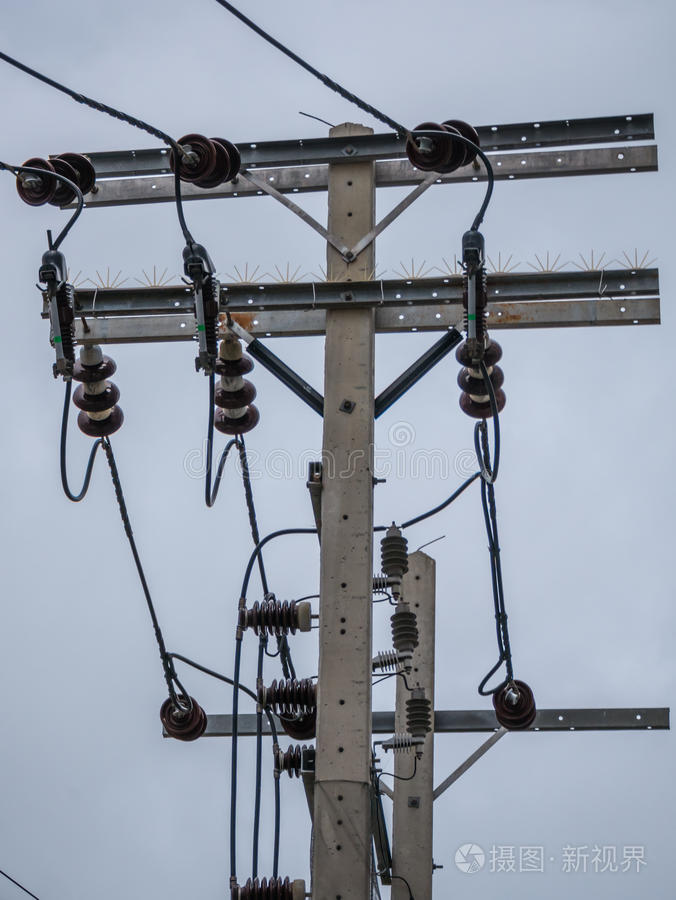insulator: (63, 358, 129, 436), (14, 149, 100, 208), (204, 355, 264, 435), (453, 339, 512, 419), (404, 117, 481, 176), (169, 135, 245, 188), (488, 679, 538, 732), (158, 697, 209, 742)
